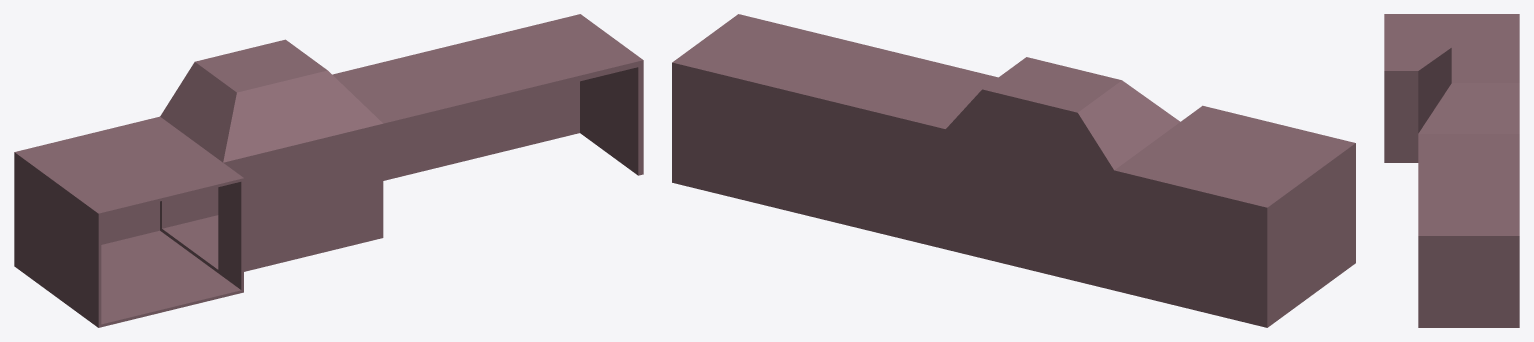
Rendered from Ruin.dae.
The picture shows the model from 3 angles, left to right: view 1: azimuth 30°, elevation 25°; view 2: azimuth 150°, elevation 25°; view 3: azimuth 270°, elevation 25°; orthographic projection. The views are drawn at different scales.
Parts seen in each view (by area): view 1: Ruin; view 2: Ruin; view 3: Ruin.
Boxes of the visible parts, x1,y1,x2,y2 form: Ruin: (14,14,643,327); Ruin: (672,14,1355,327); Ruin: (1384,14,1519,327).
Size of the model in its own units: 15.55 by 4 by 4.22.
